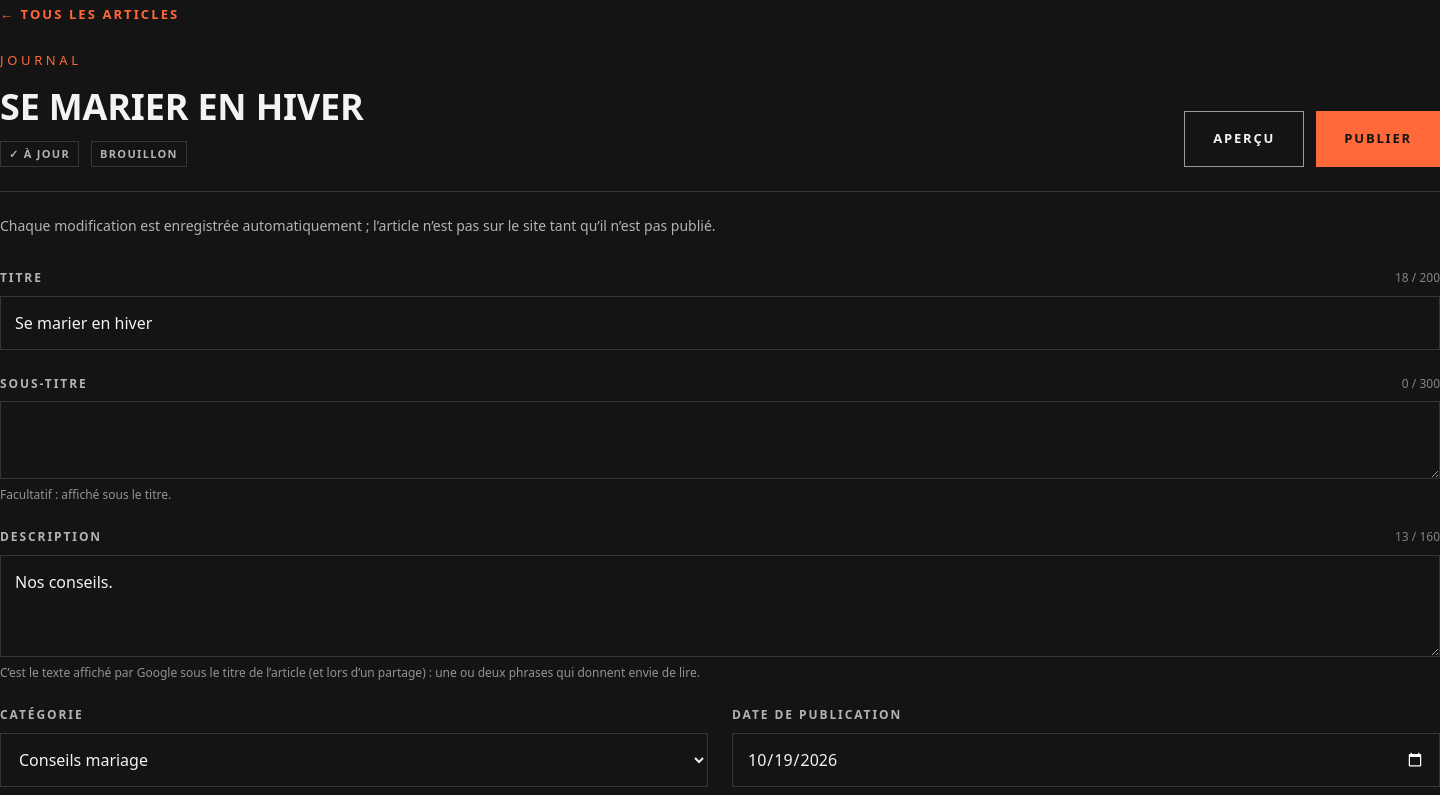
Scenario: EditeurArticle — publication, retrait, suppression › Publier refusé par le serveur : le message et les champs en erreur
Click the button "Publier": (1378, 139) [1316, 111, 1439, 167]
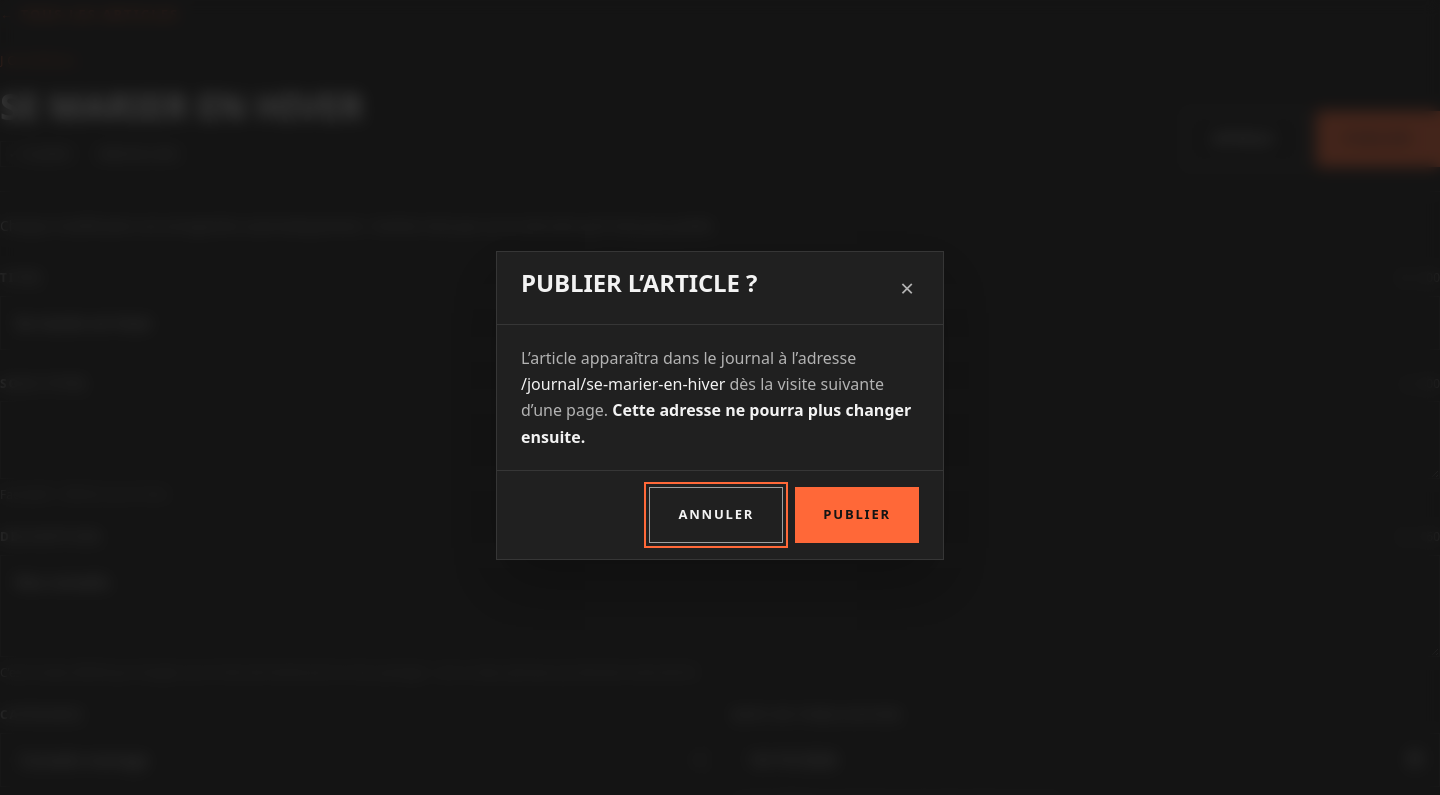
Click the button "Publier": (857, 515) [795, 487, 919, 542]
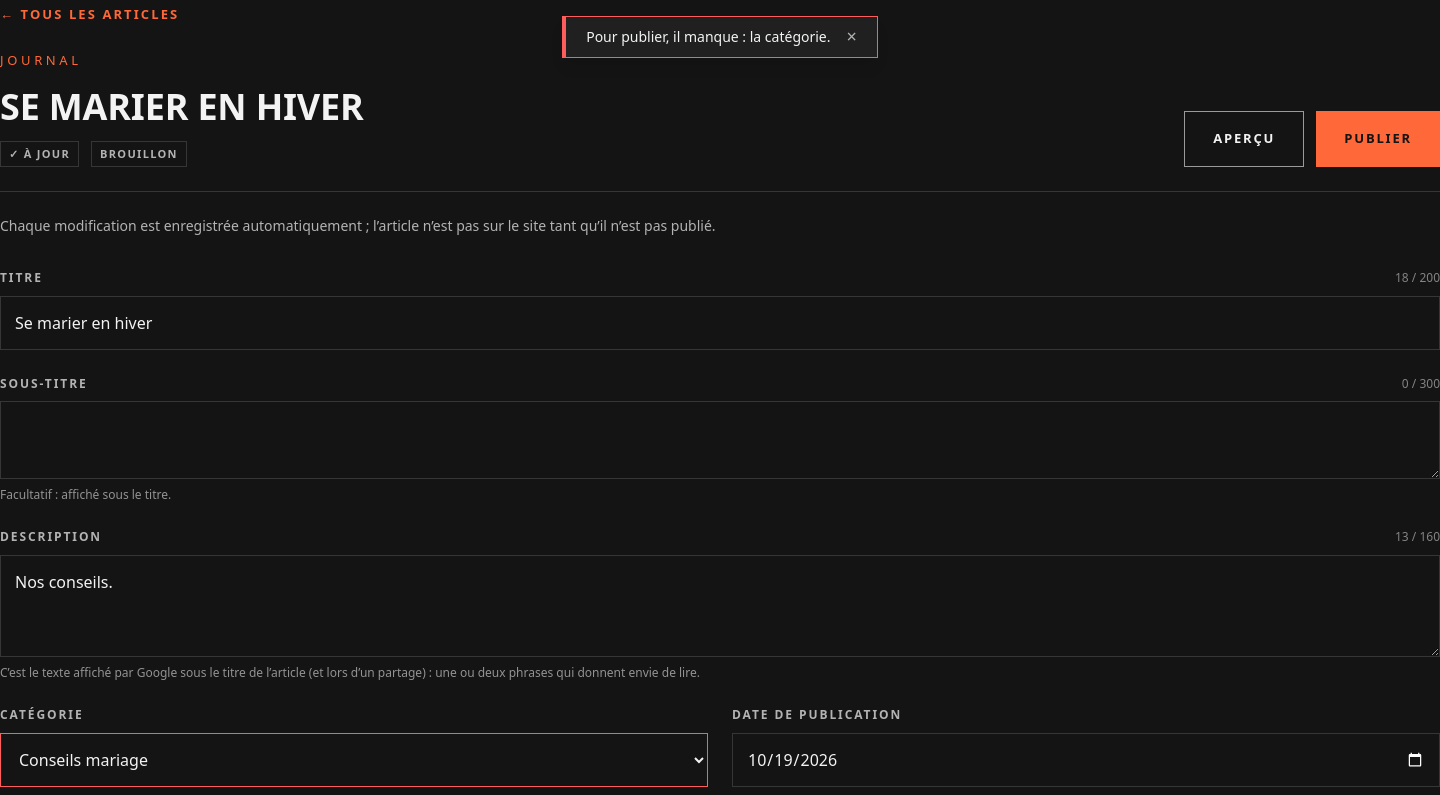
Check: the text "Pour publier, il manque : la catégorie." is shown, box [586, 27, 830, 47]
